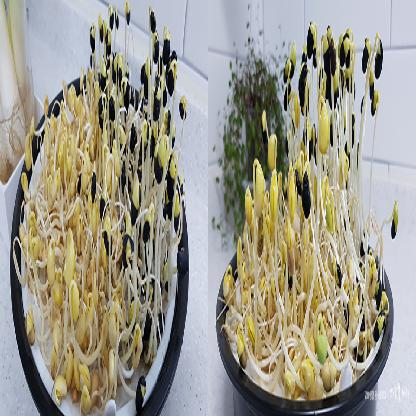bean sprouts: (37, 91, 87, 375), (232, 135, 296, 351)
